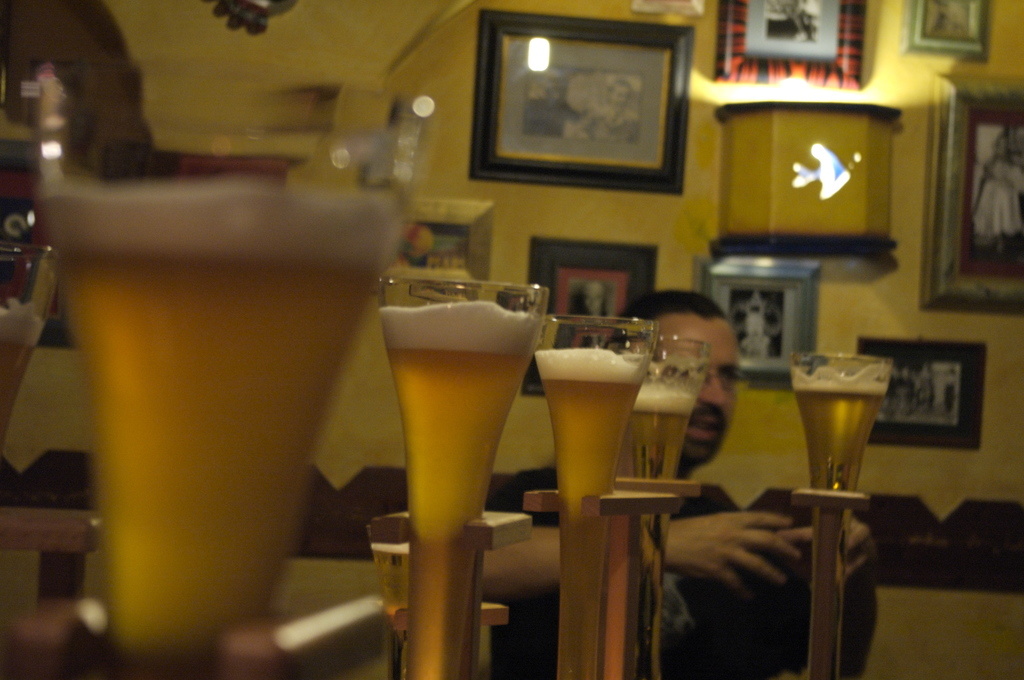Beer: (24, 152, 403, 679), (353, 291, 549, 546), (531, 343, 643, 537), (778, 350, 888, 494), (609, 357, 704, 491)
